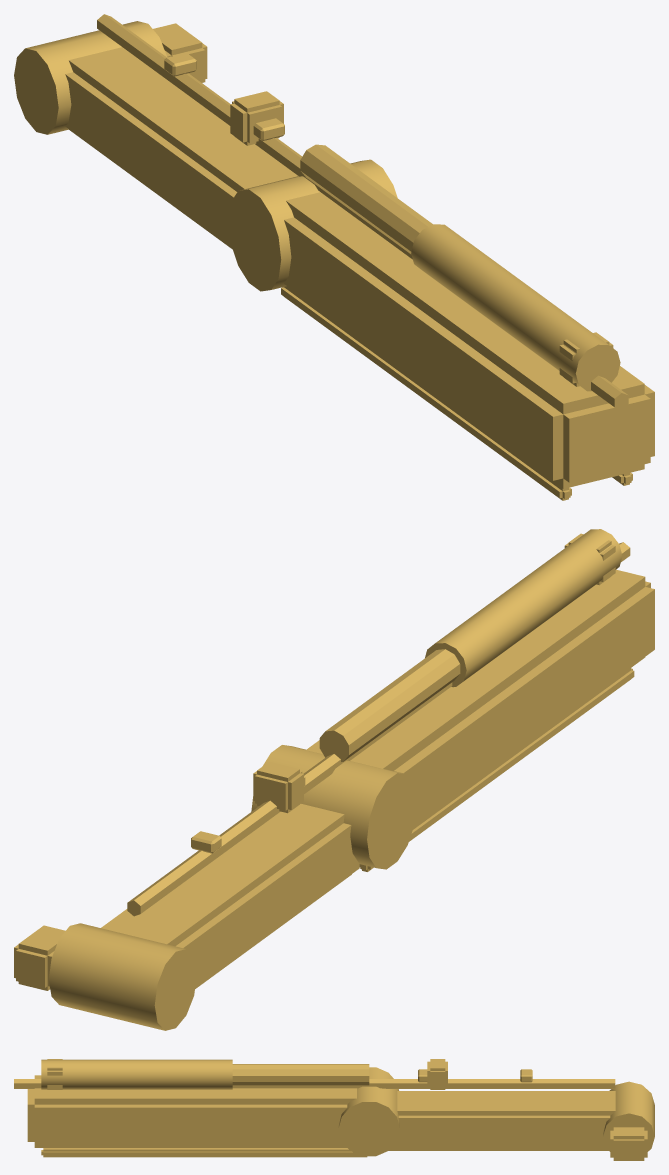
Rendered from resource_harvester_arm.glb.
3 views of the same model, one above another, from view 1: azimuth 30°, elevation 25°; view 2: azimuth 150°, elevation 25°; view 3: azimuth 270°, elevation 25° (orthographic). The views are drawn at different scales.
Visible parts, largest first — view 1: resource_harvester_arm; view 2: resource_harvester_arm; view 3: resource_harvester_arm.
Boxes of the visible parts, x1=… form: resource_harvester_arm: x1=14, y1=14, x2=654, y2=500; resource_harvester_arm: x1=14, y1=529, x2=654, y2=1030; resource_harvester_arm: x1=14, y1=1059, x2=654, y2=1160.
Bounding box in the file's own units: 0.16 × 0.14 × 0.938.
